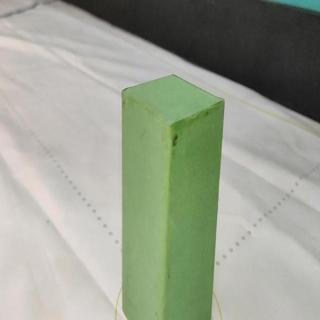greenbox: (122, 73, 227, 320)
